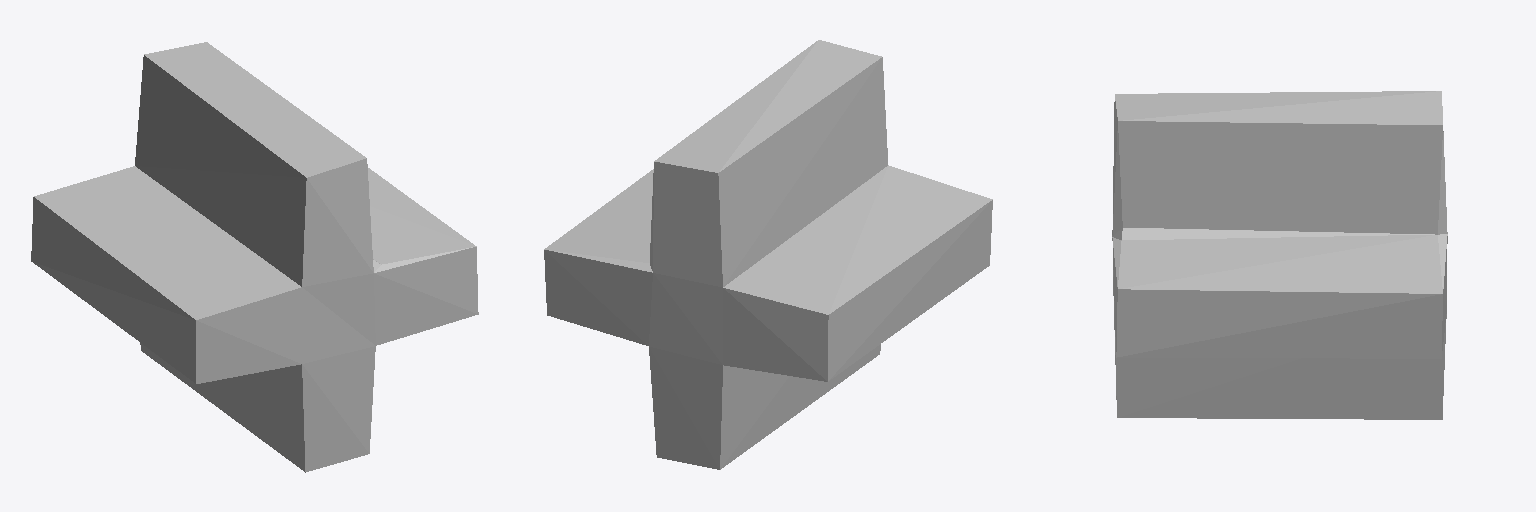
The model's file is cross_decimated_convex.obj.
The picture shows the model from 3 angles: view 1: azimuth 30°, elevation 25°; view 2: azimuth 150°, elevation 25°; view 3: azimuth 270°, elevation 25°; orthographic projection.
Parts seen in each view (by area): view 1: my_mesh_cross.001; view 2: my_mesh_cross.001; view 3: my_mesh_cross.001.
Part boxes in pixels (x1,y1,x2,y2): my_mesh_cross.001: (31, 42, 478, 472); my_mesh_cross.001: (544, 40, 992, 469); my_mesh_cross.001: (1112, 91, 1447, 419).
Bounding box in the file's own units: 24.75 × 24.86 × 25.22.